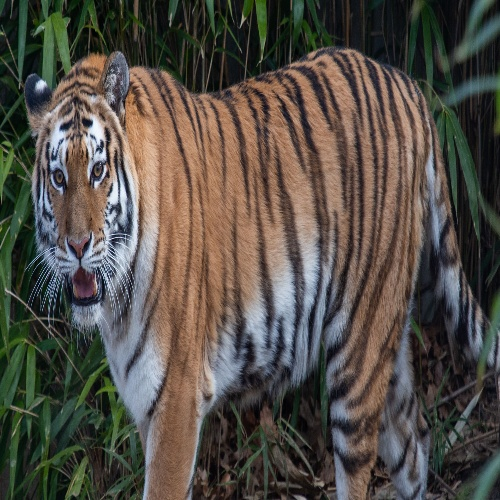tiger: (13, 52, 464, 447)
